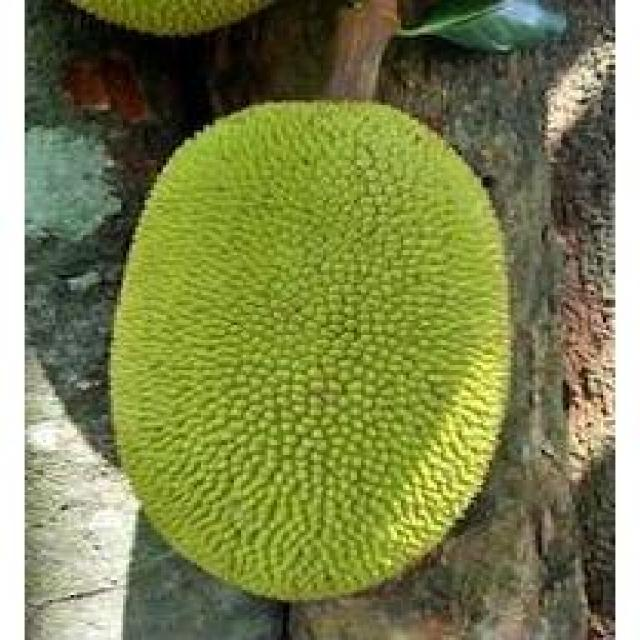Fruit: (126, 70, 545, 392), (25, 0, 363, 58)
